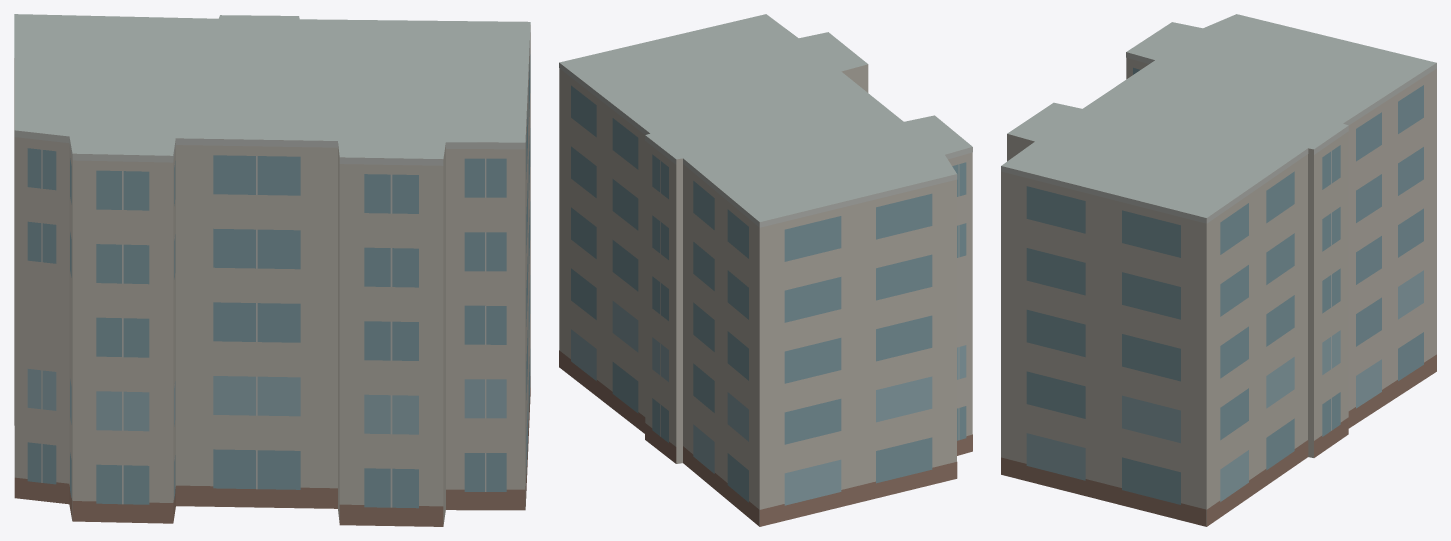
File: survey-upis-32911244.glb
The picture shows the model from 3 angles, left to right: view 1: azimuth 30°, elevation 25°; view 2: azimuth 150°, elevation 25°; view 3: azimuth 270°, elevation 25°; orthographic projection. The views are drawn at different scales.
Visible parts, largest first — view 1: survey-upis-32911244.tmp; view 2: survey-upis-32911244.tmp; view 3: survey-upis-32911244.tmp.
Part boxes in pixels (<box>): survey-upis-32911244.tmp: <box>14,14,530,526</box>; survey-upis-32911244.tmp: <box>559,14,972,526</box>; survey-upis-32911244.tmp: <box>1001,14,1436,526</box>.
Size of the model in its own units: 18.95 by 13.36 by 17.1.
